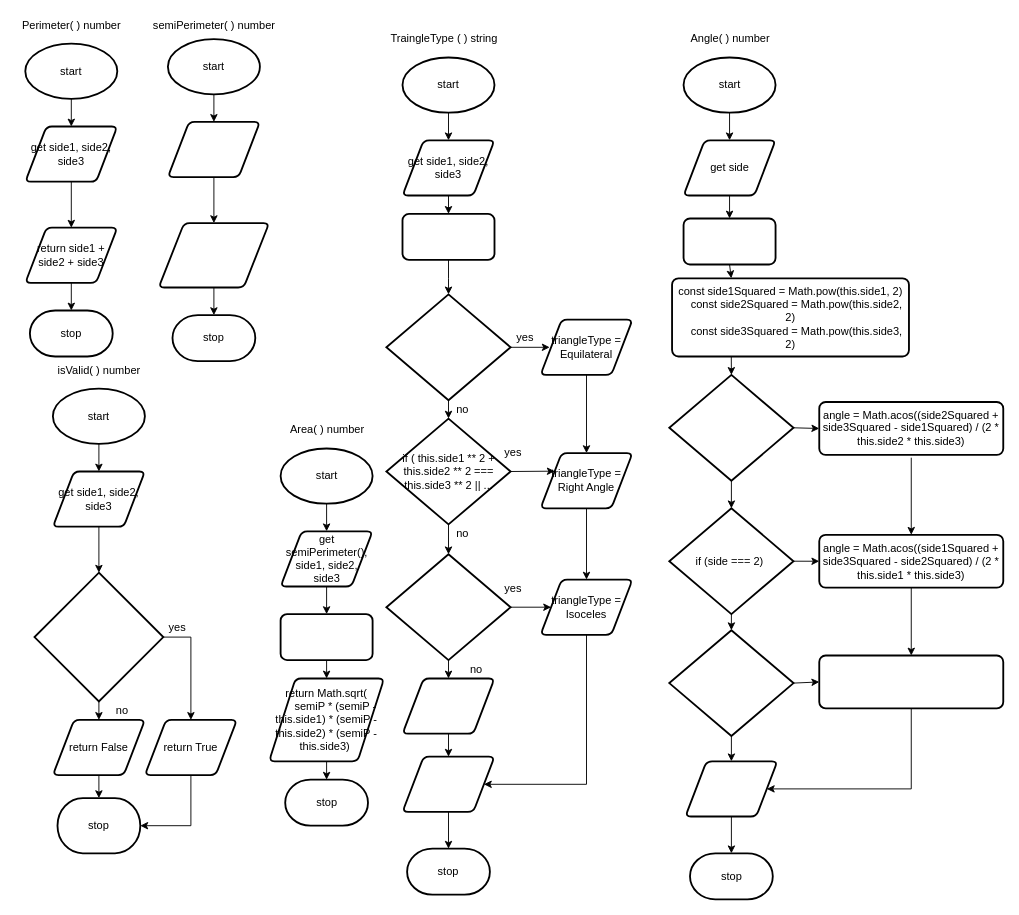
The diagram is 1019 pixels wide and 915 high, and some of its shapes have lost their labels. The centre of each missing label's shape, as x and y in pixels:
angle = ...: the point at 911,681
getPerimeter(): the point at 213,149
if ( this.side1 === this.side2 && this.side2 === ...: the point at 448,607
if (side === 1): the point at 731,427
if (side === 3): the point at 731,682
if (this.side1 === this.side2 && this.side2 === this.side3: the point at 448,347
if( side1 + side2 > side3 && side1 + side3 > side2 && side2 + side3 > side1): the point at 98,636
let angle: number: the point at 729,241
let triangleType: the point at 448,236
return angle: the point at 731,788
return getPeriemter() / 2: the point at 213,255
return triangleType: the point at 448,783
semiP = semiPerimter: the point at 326,637
triangleType = Scalene: the point at 448,705
